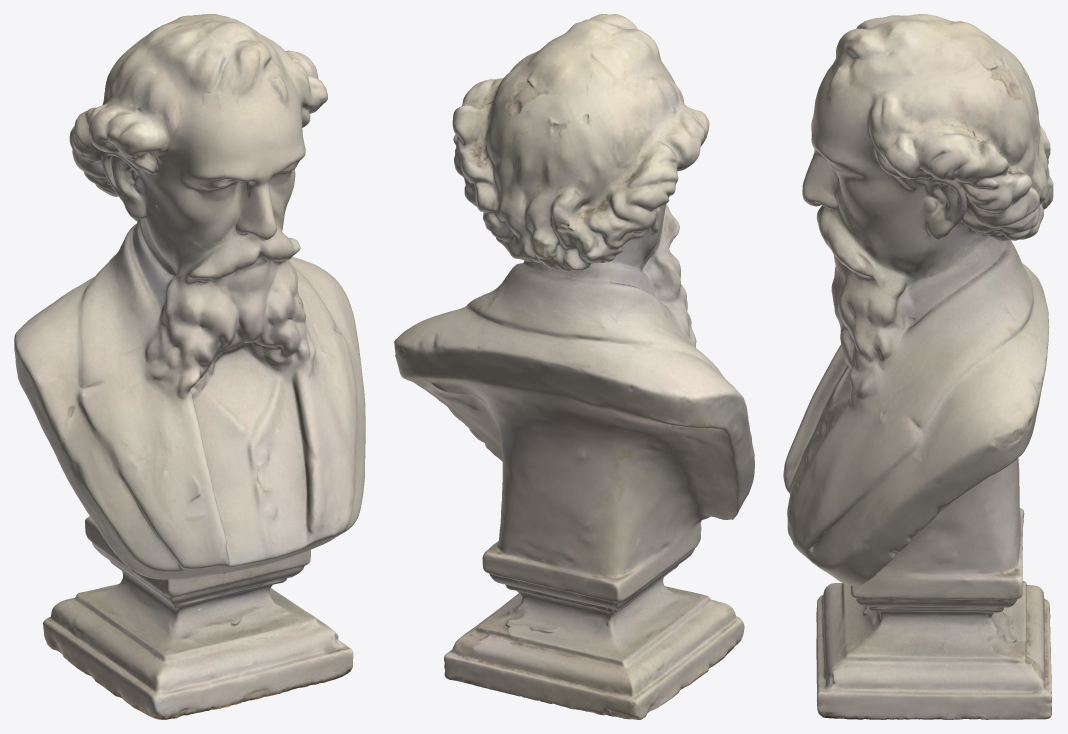
The model's file is Main.glb.
3 renders of one model, left to right at view 1: azimuth 30°, elevation 25°; view 2: azimuth 150°, elevation 25°; view 3: azimuth 270°, elevation 25°, orthographic. The views are drawn at different scales.
Visible parts, largest first — view 1: Lowres:Mesh; view 2: Lowres:Mesh; view 3: Lowres:Mesh.
Boxes of the visible parts, <box> form: Lowres:Mesh: <box>14,14,365,719</box>; Lowres:Mesh: <box>394,14,754,719</box>; Lowres:Mesh: <box>783,14,1053,719</box>.
Size of the model in its own units: 0.3626 by 0.6701 by 0.2501.
Materials: 1 (1 with a texture image).
